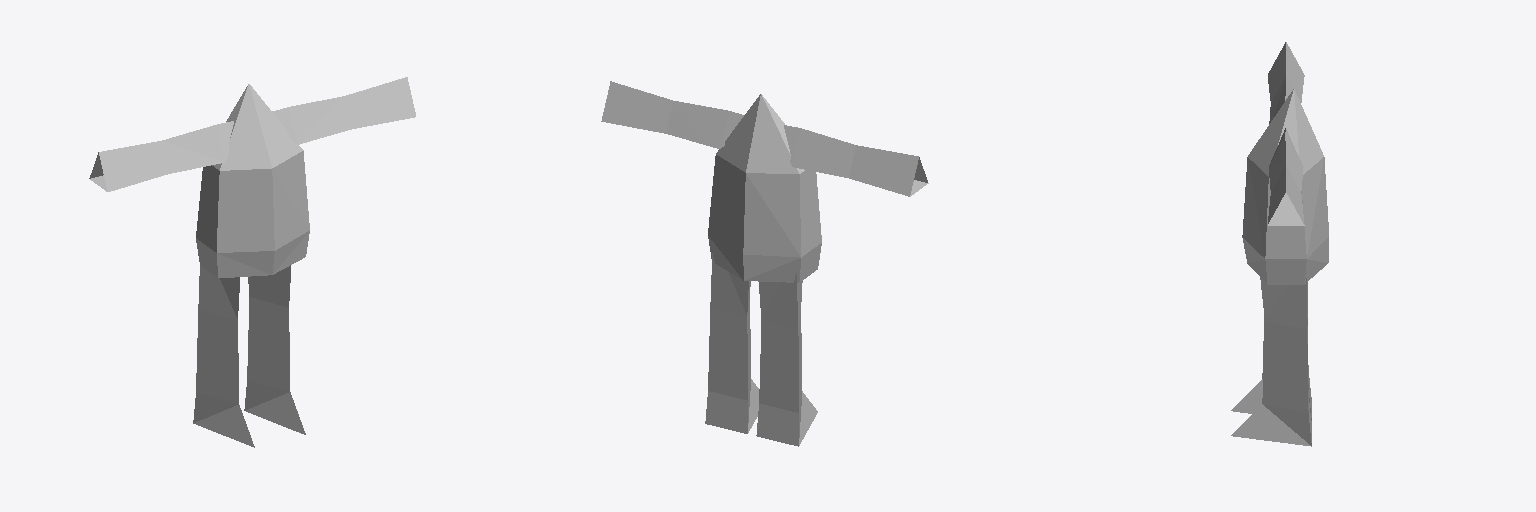
Rendered from bod-shirt.obj.
3 renders of one model, left to right at view 1: azimuth 30°, elevation 25°; view 2: azimuth 150°, elevation 25°; view 3: azimuth 270°, elevation 25°, orthographic.
Visible parts, largest first — view 1: shirt_Cube, leg_Cube.002, arm_Cube.001; view 2: shirt_Cube, leg_Cube.002, arm_Cube.001; view 3: shirt_Cube, leg_Cube.002, arm_Cube.001.
Boxes of the visible parts, x1=… form: shirt_Cube: x1=196, y1=84, x2=309, y2=277; leg_Cube.002: x1=193, y1=265, x2=305, y2=447; arm_Cube.001: x1=89, y1=77, x2=415, y2=191; shirt_Cube: x1=708, y1=94, x2=821, y2=282; leg_Cube.002: x1=705, y1=253, x2=817, y2=446; arm_Cube.001: x1=601, y1=81, x2=928, y2=196; shirt_Cube: x1=1242, y1=89, x2=1328, y2=284; leg_Cube.002: x1=1231, y1=277, x2=1311, y2=446; arm_Cube.001: x1=1268, y1=42, x2=1304, y2=225.
Size of the model in its own units: 5.13 by 5.32 by 1.42.